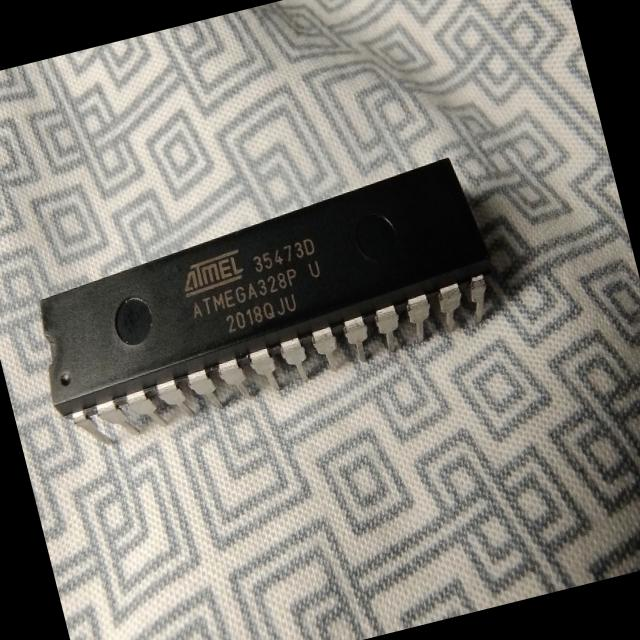atmega: (15, 149, 515, 459)
